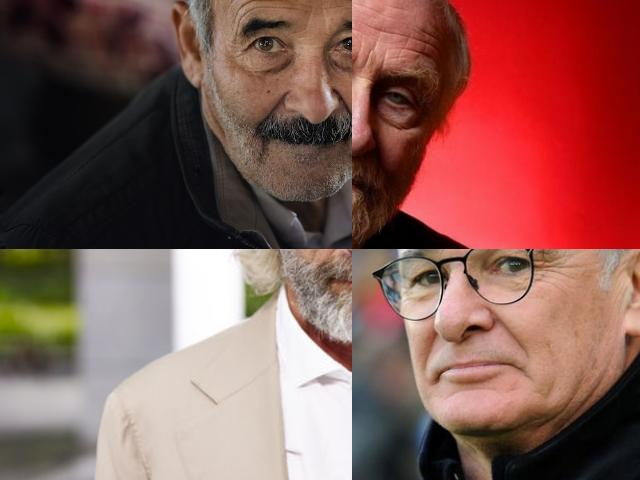chin: (446, 383, 494, 397)
crows_feet: (533, 250, 557, 282), (233, 44, 251, 60)
forehead: (411, 24, 442, 66), (228, 0, 288, 13), (361, 18, 393, 40)
frown_line: (352, 48, 384, 67), (294, 25, 312, 46)
gummy_smile: (494, 309, 526, 349), (262, 84, 290, 120), (421, 322, 437, 366), (334, 87, 352, 120), (324, 249, 342, 258)
